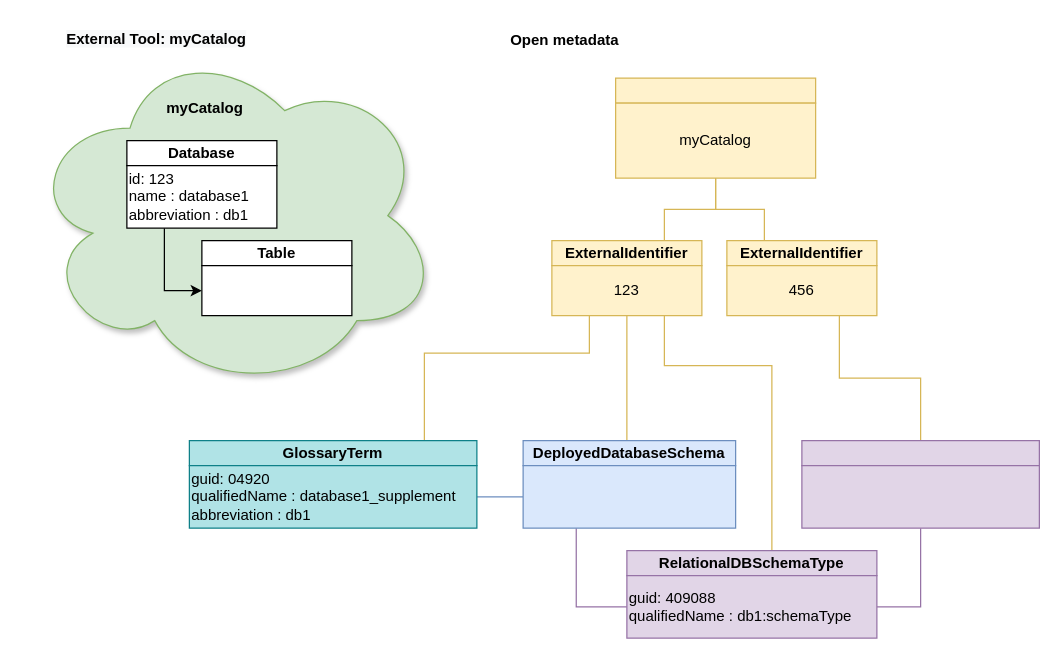
This 1061x660 diagram has some shape labels left out. The shapes that lost their labels are listed below. From the top down, each one's centre as x and y in pixels, then its label:
At pixel 715 90: "SoftwareServerCapability".
At pixel 276 290: "id: 456 name : db1:table1".
At pixel 920 452: "RelationalTable".
At pixel 629 496: "guid: 07275 qualifiedName : database1".
At pixel 920 496: "guid: 203480 qualifiedName : database1:table1".
